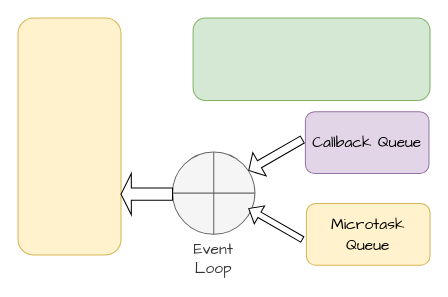
Some shapes in this 448 by 297 pixel diagram are drawn without their labels. The shapes that lost their labels are listed below. From the top down, each one's centre as x and y in pixels, then its label:
(311,58): Web API DOM fetch() setTimeout()
(69,136): Call Stack
